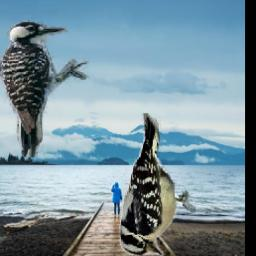Woodpecker: (0, 20, 89, 157), (118, 114, 196, 256)
